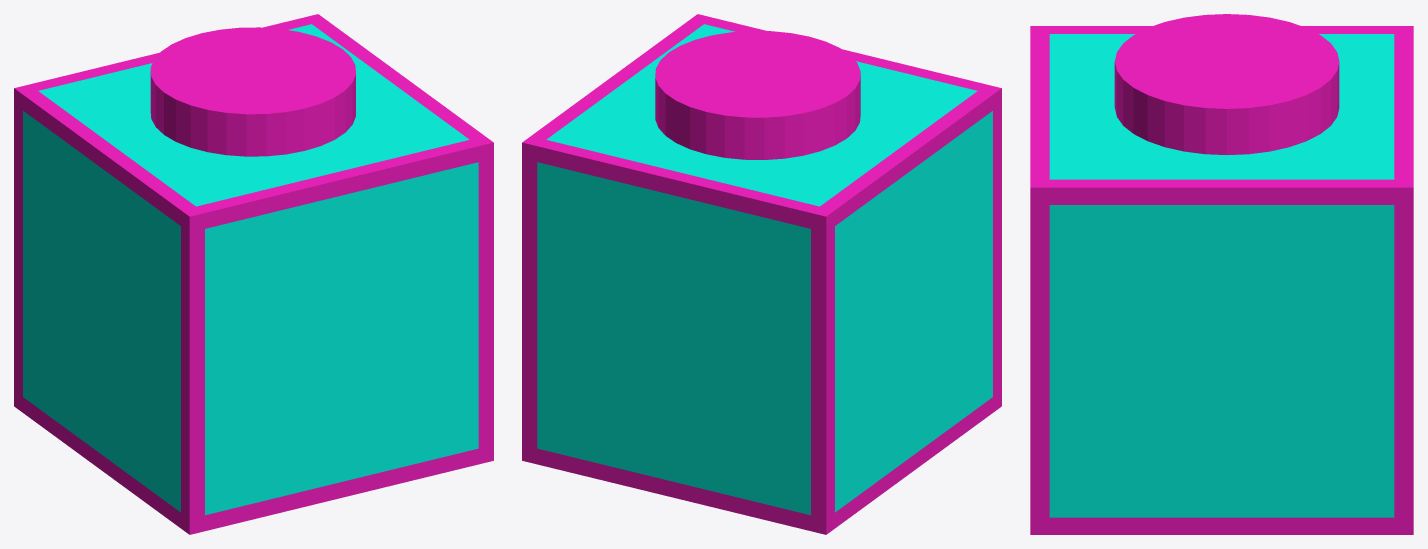
Rendered from sceneswapbox.glb.
3 renders of one model, left to right at view 1: azimuth 30°, elevation 25°; view 2: azimuth 150°, elevation 25°; view 3: azimuth 270°, elevation 25°, orthographic. The views are drawn at different scales.
Parts seen in each view (by area): view 1: 立方体.038; view 2: 立方体.038; view 3: 立方体.038.
Part boxes in pixels (bbox=[...]): 立方体.038: bbox=[14, 14, 493, 534]; 立方体.038: bbox=[522, 14, 1001, 534]; 立方体.038: bbox=[1030, 14, 1413, 534].
Bounding box in the file's own units: 0.5589 × 0.6333 × 0.5589.
Materials: 1 (1 with a texture image).
